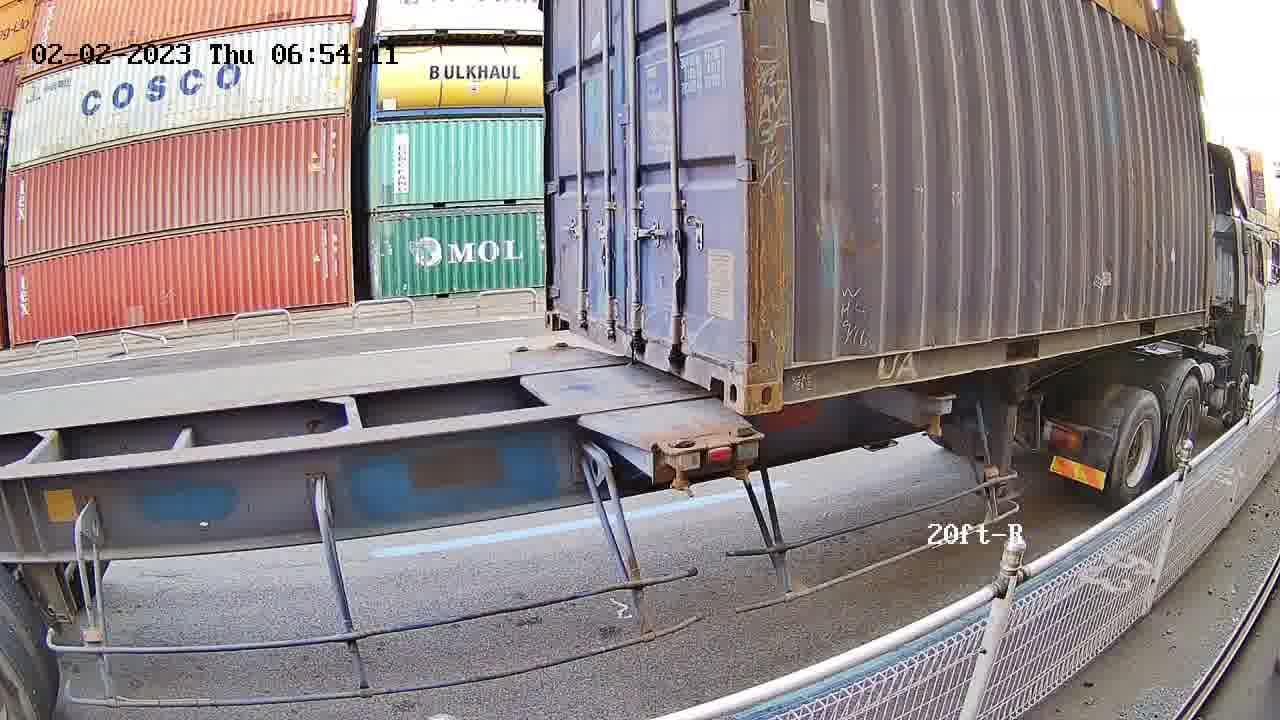Chassis: (553, 345, 764, 445), (508, 349, 703, 453)
Cone: (662, 436, 699, 501), (727, 424, 763, 488)
Hole_L: (746, 337, 818, 414), (545, 288, 575, 335)
Hole_R: (699, 329, 748, 416)
Tire: (1112, 394, 1162, 503), (1167, 376, 1201, 469)
